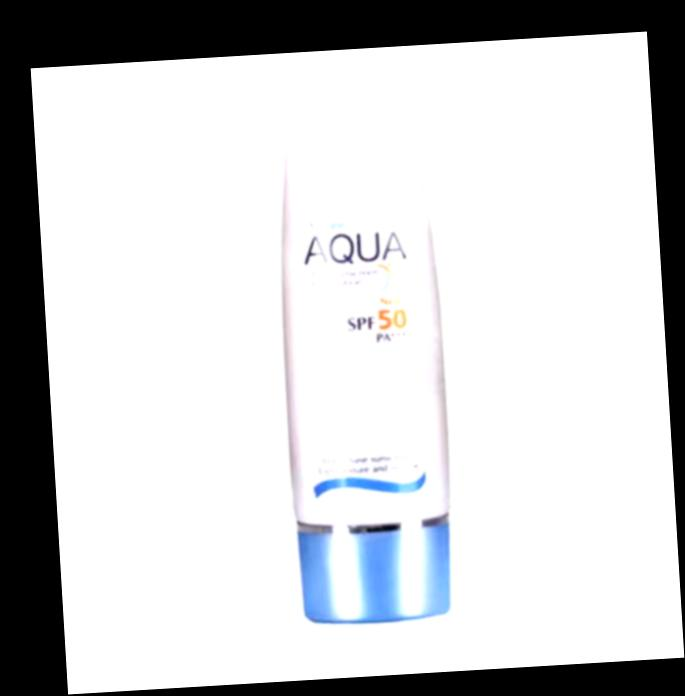cosmetic: (269, 100, 460, 626)
